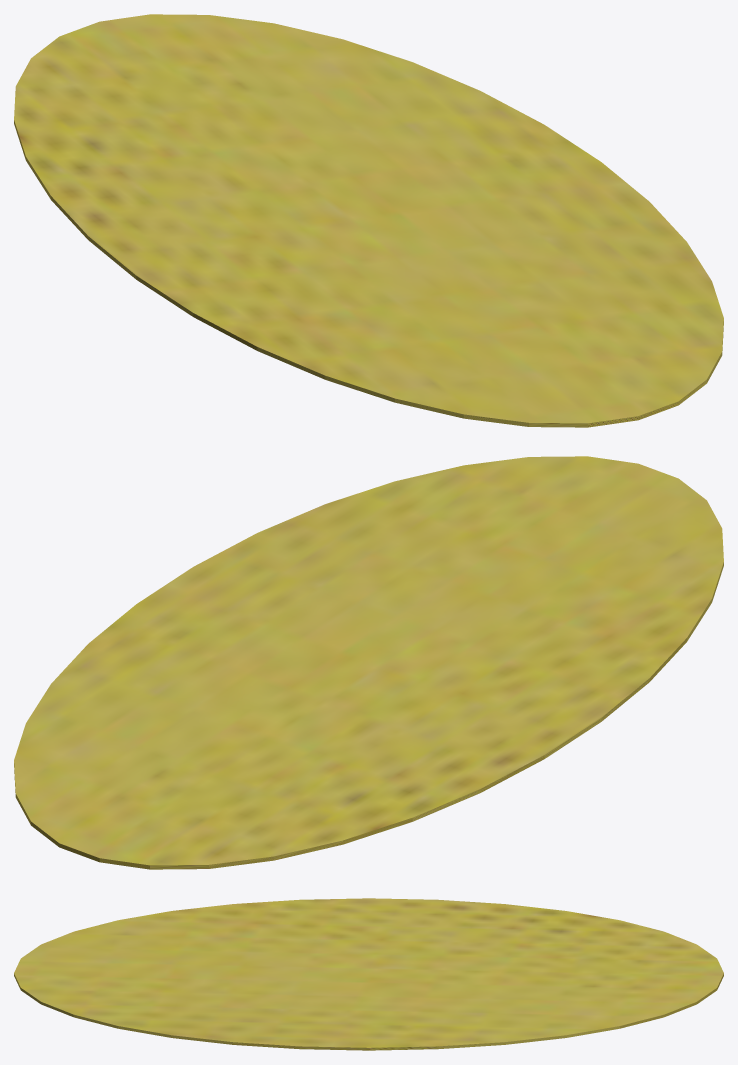
The model's file is bottleCap.gltf.
3 renders of one model, top to bottom at view 1: azimuth 30°, elevation 25°; view 2: azimuth 150°, elevation 25°; view 3: azimuth 270°, elevation 25°, orthographic. The views are drawn at different scales.
Visible parts, largest first — view 1: cap; view 2: cap; view 3: cap.
Part boxes in pixels (x1,y1,x2,y2): cap: (14,14,723,427); cap: (14,456,723,869); cap: (14,898,723,1050).
Bounding box in the file's own units: 0.2161 × 0.00186 × 0.4338.
1 material, 1 textured.
